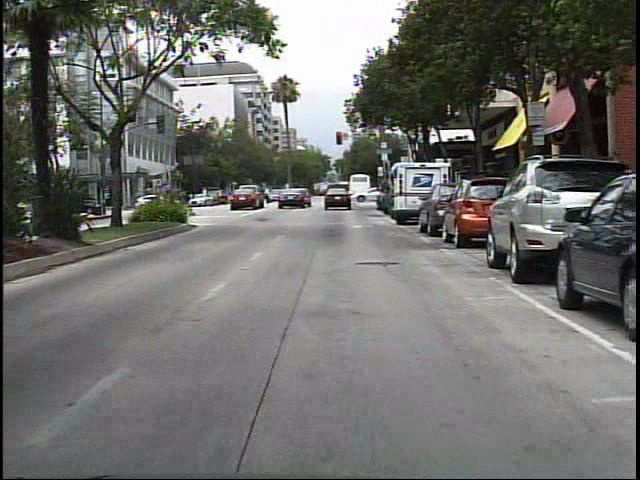person: (279, 183, 293, 205)
